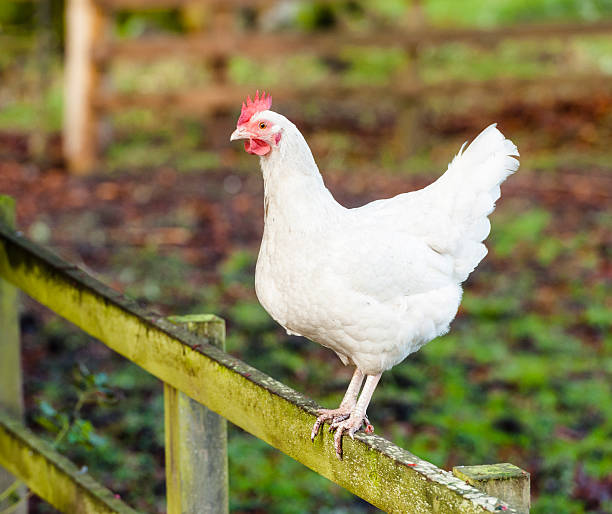Healthy: (227, 81, 527, 447)
